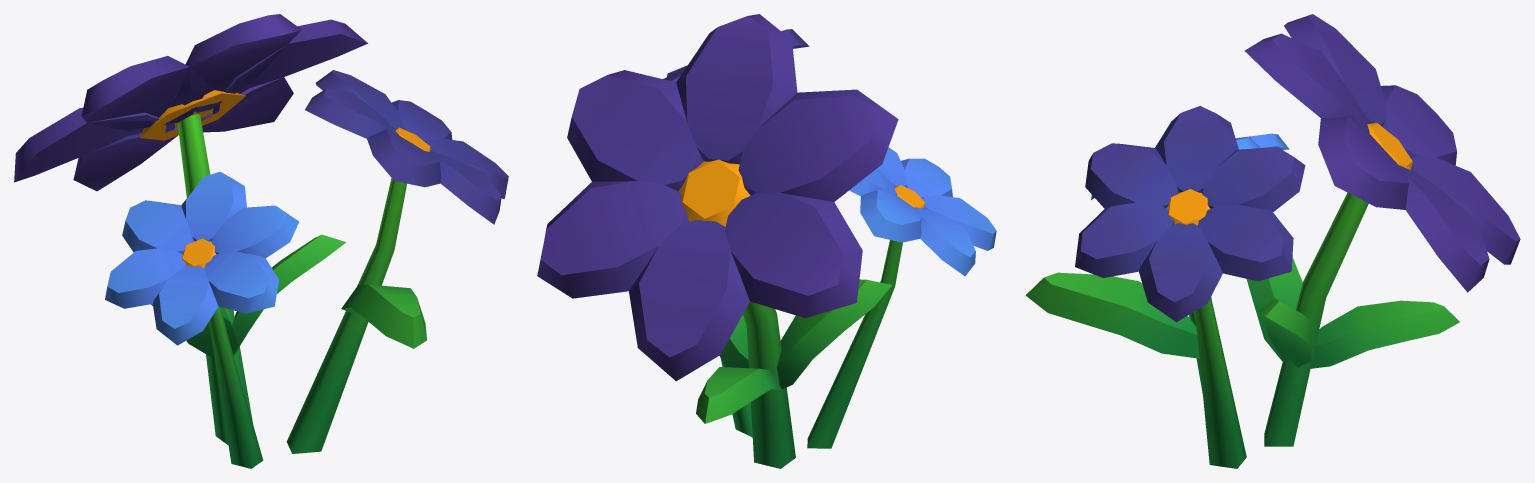
File: Flowers_1_F.fbx
3 renders of one model, left to right at view 1: azimuth 30°, elevation 25°; view 2: azimuth 150°, elevation 25°; view 3: azimuth 270°, elevation 25°, orthographic. The views are drawn at different scales.
Parts seen in each view (by area): view 1: Flowers_1_F; view 2: Flowers_1_F; view 3: Flowers_1_F.
Boxes of the visible parts, bbox=[...] form: Flowers_1_F: bbox=[14, 14, 508, 468]; Flowers_1_F: bbox=[537, 14, 996, 468]; Flowers_1_F: bbox=[1025, 14, 1520, 468].
Size of the model in its own units: 39.76 by 41.95 by 45.41.
